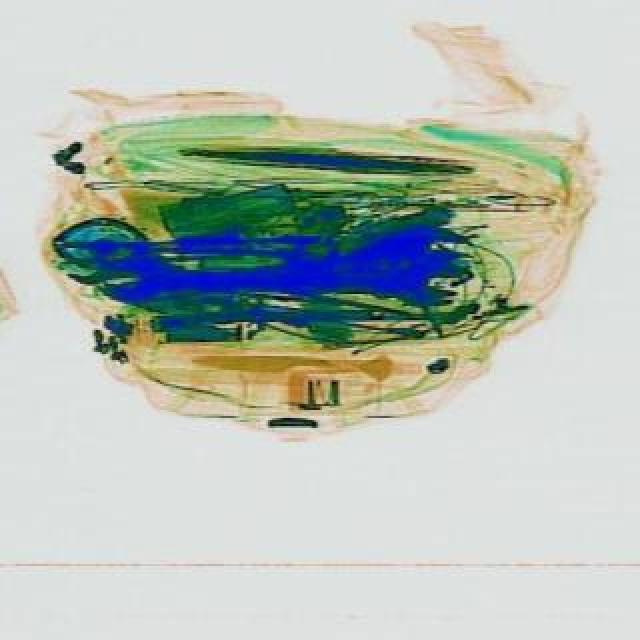scissors: (274, 224, 472, 320), (98, 258, 280, 306), (66, 256, 134, 288)
